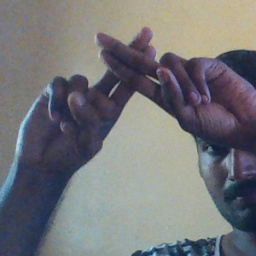F: (64, 24, 211, 133)
